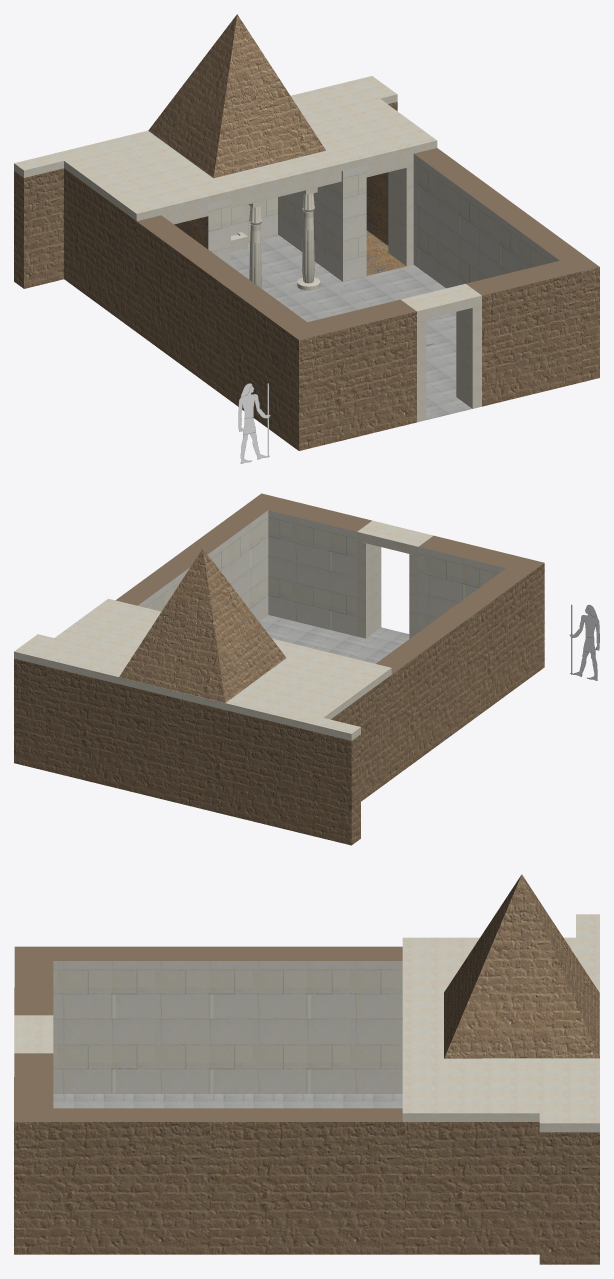
Rendered from Ipuia.obj.
The picture shows the model from 3 angles, top to bottom: view 1: azimuth 30°, elevation 25°; view 2: azimuth 150°, elevation 25°; view 3: azimuth 270°, elevation 25°; orthographic projection. The views are drawn at different scales.
Visible parts, largest first — view 1: Mesh6 Model, Mesh5 Component_3_1 Model, Mesh7 Model, Mesh3 Component_13_2 Model, Mesh1 Component_13_1 Model; view 2: Mesh6 Model, Mesh5 Component_3_1 Model, Mesh7 Model; view 3: Mesh6 Model, Mesh5 Component_3_1 Model.
Boxes of the visible parts, bbox=[...] form: Mesh6 Model: bbox=[14, 76, 599, 450]; Mesh5 Component_3_1 Model: bbox=[148, 14, 325, 178]; Mesh7 Model: bbox=[238, 383, 270, 463]; Mesh3 Component_13_2 Model: bbox=[301, 187, 317, 283]; Mesh1 Component_13_1 Model: bbox=[248, 200, 264, 287]; Mesh6 Model: bbox=[14, 493, 544, 845]; Mesh5 Component_3_1 Model: bbox=[119, 548, 286, 702]; Mesh7 Model: bbox=[569, 604, 599, 680]; Mesh6 Model: bbox=[14, 914, 599, 1264]; Mesh5 Component_3_1 Model: bbox=[444, 874, 599, 1058].
Bounding box in the file's own units: 8.02 × 4.97 × 9.01.
8 materials, 6 textured.
